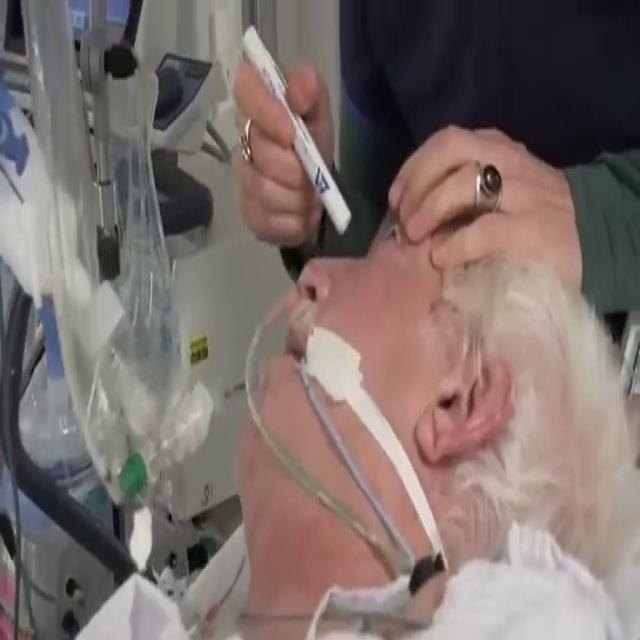doctor: (230, 0, 639, 318)
monitor: (0, 0, 140, 69)
patient: (227, 184, 638, 638)
